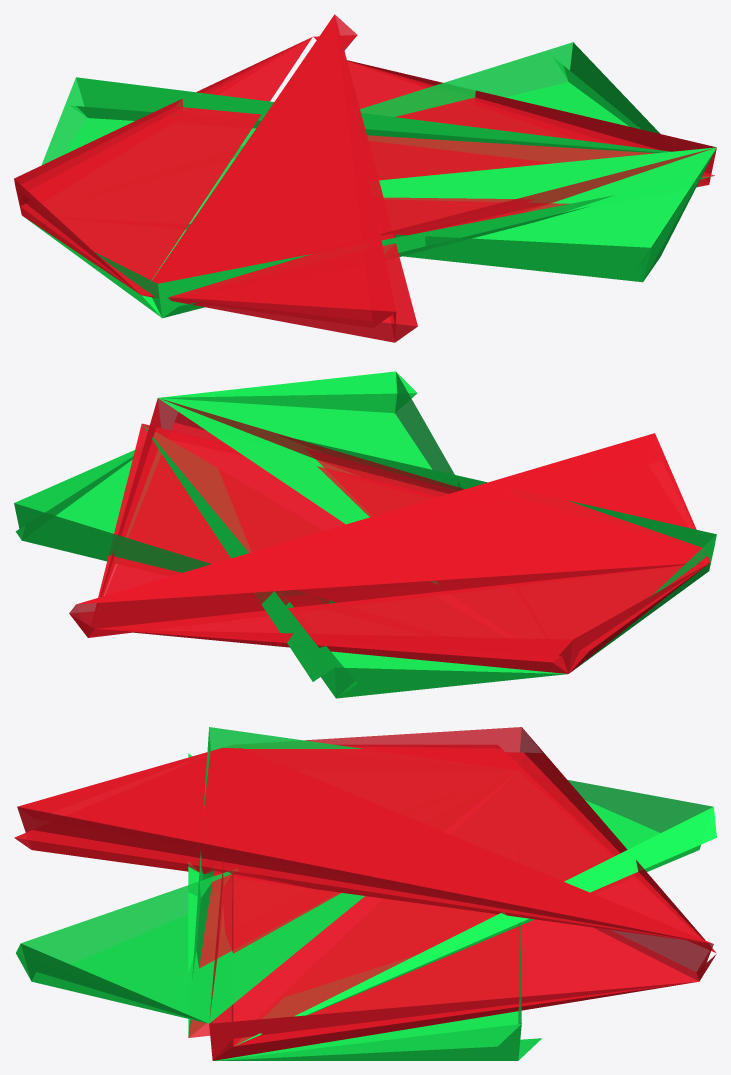
File: S.S._Dolphin_Chronos_Reactor_lights_2.obj
3 views of the same model, one above another, from view 1: azimuth 30°, elevation 25°; view 2: azimuth 150°, elevation 25°; view 3: azimuth 270°, elevation 25° (orthographic). The views are drawn at different scales.
Visible parts, largest first — view 1: S.S._Dolphin_Chronos_Reactor_lights_2; view 2: S.S._Dolphin_Chronos_Reactor_lights_2; view 3: S.S._Dolphin_Chronos_Reactor_lights_2.
Part boxes in pixels (x1,y1,x2,y2): S.S._Dolphin_Chronos_Reactor_lights_2: (14, 14, 716, 342); S.S._Dolphin_Chronos_Reactor_lights_2: (14, 371, 716, 698); S.S._Dolphin_Chronos_Reactor_lights_2: (14, 727, 716, 1060).
Size of the model in its own units: 3.82 by 0.2384 by 3.75.
